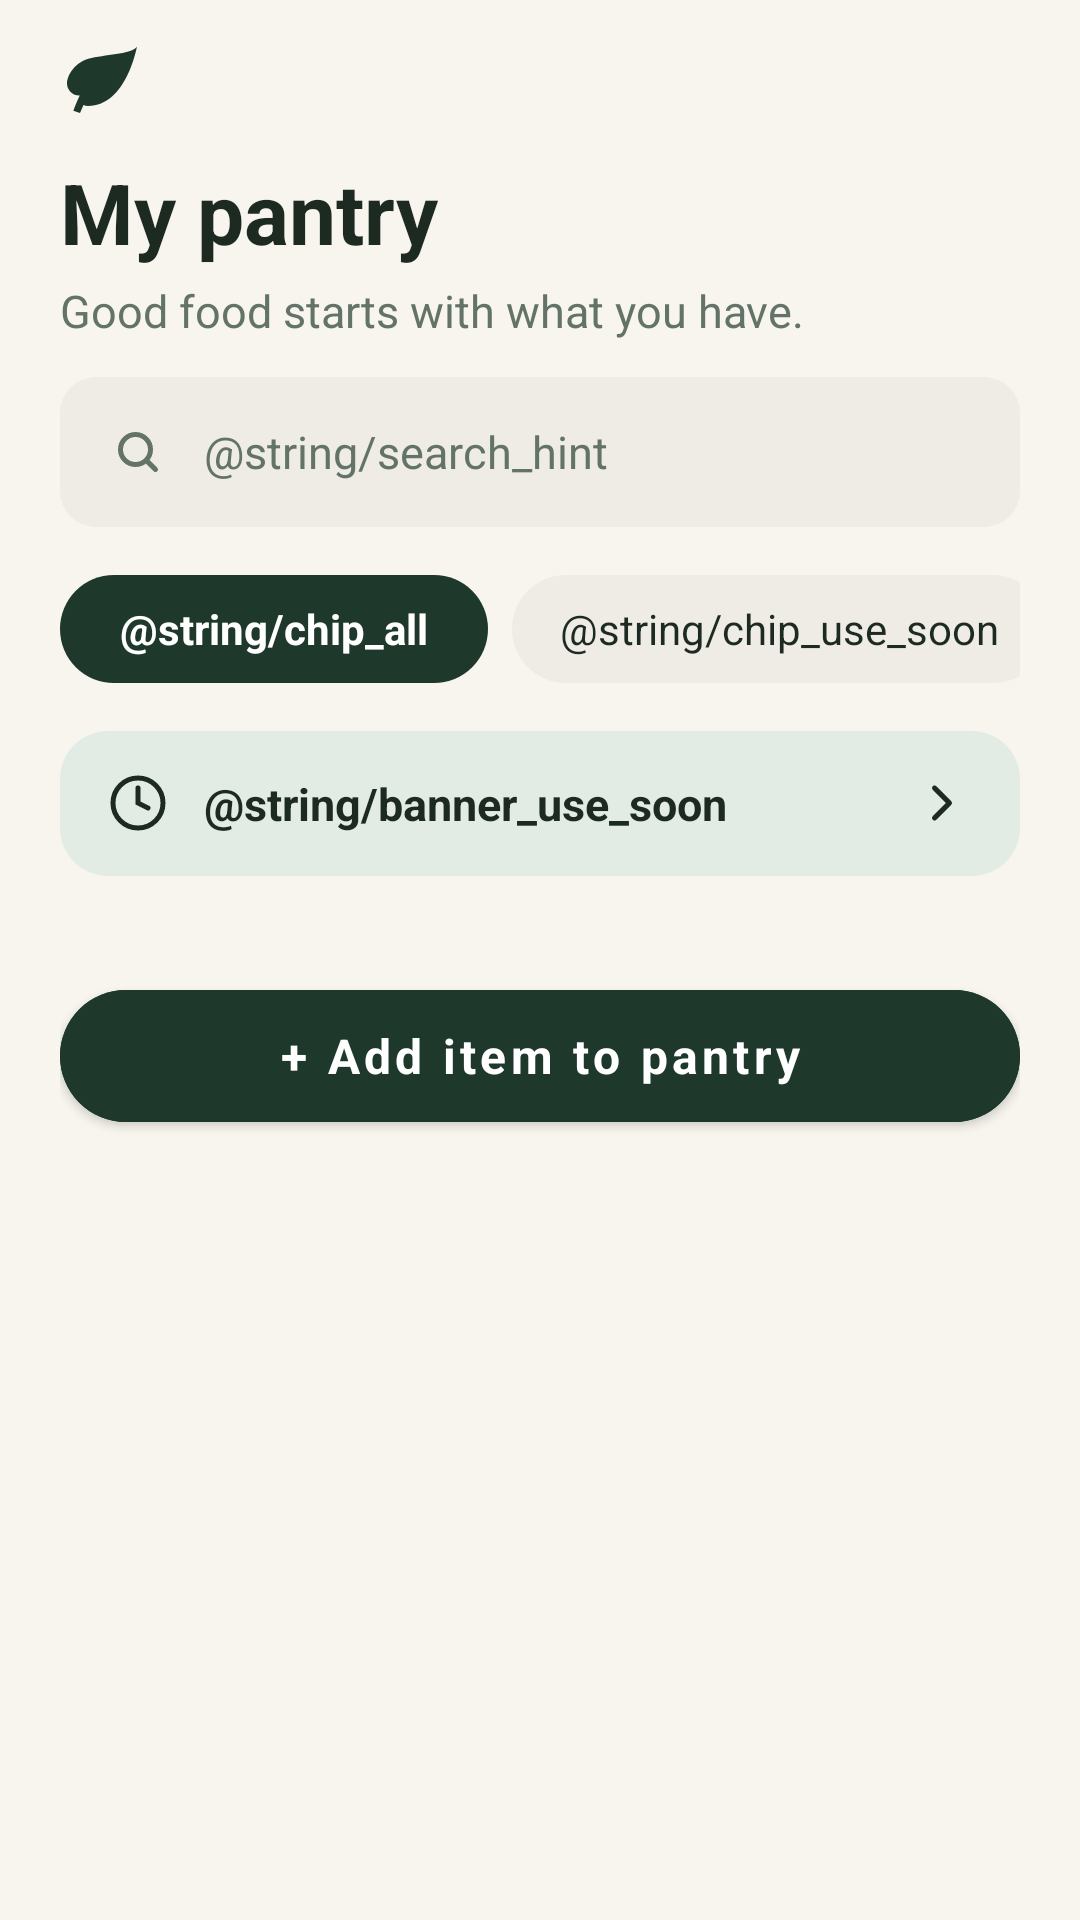

Icons on this 1080×1920 Android screen, each with the point to tap as [x,y]:
chevron right: [942,803]
clock: [138,803]
leaf: [102,80]
